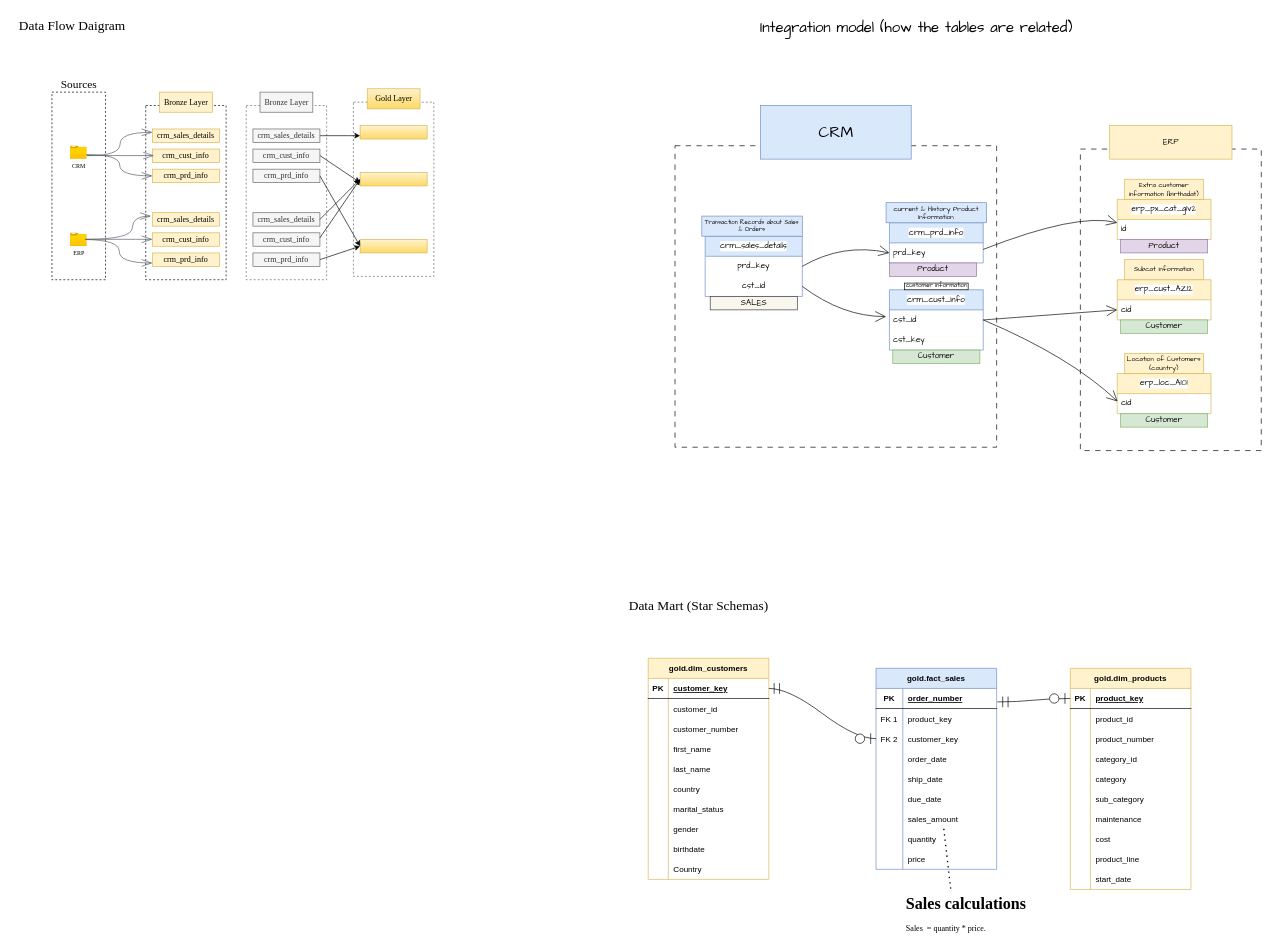
Image size: 1273x946. Some labels were removed from this diagram. Here are the shapes that lost their labels. From the top down, the centre of each, then its label:
point (393, 132): fact_sales
point (393, 179): dim_customers
point (393, 246): dim_products
